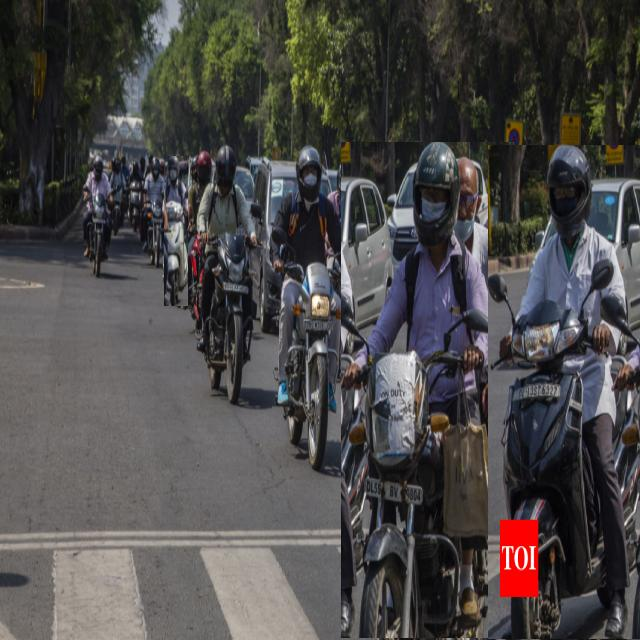motorcycle: (341, 143, 514, 638), (488, 145, 640, 639), (270, 145, 349, 469), (198, 145, 258, 404), (82, 155, 112, 276), (164, 157, 188, 306)
